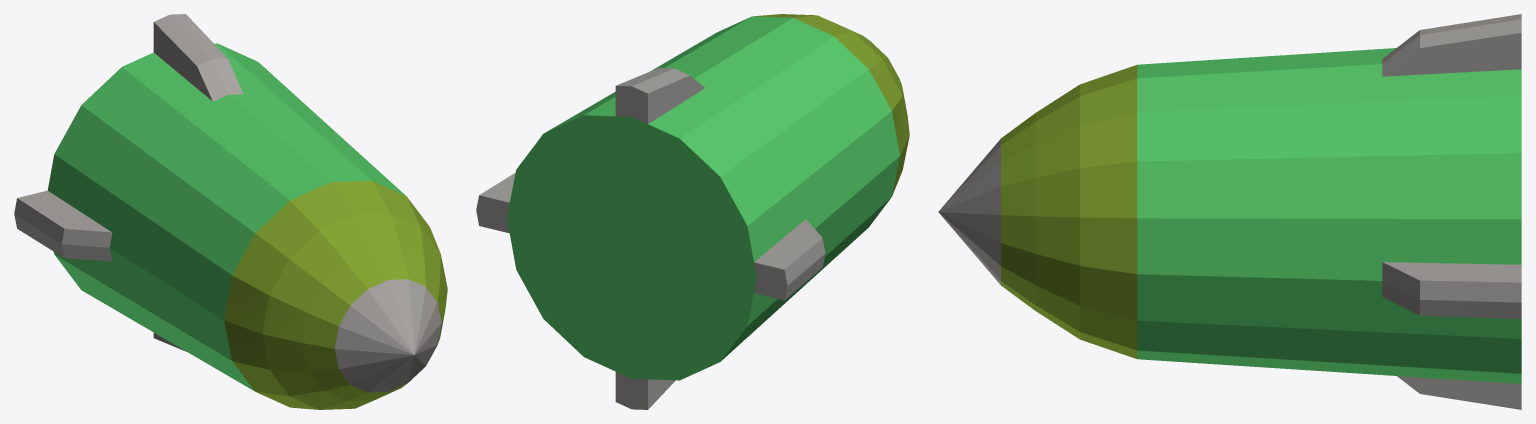
Rendered from missle.fbx.
The picture shows the model from 3 angles, left to right: view 1: azimuth 30°, elevation 25°; view 2: azimuth 150°, elevation 25°; view 3: azimuth 270°, elevation 25°; orthographic projection. The views are drawn at different scales.
Parts seen in each view (by area): view 1: Cylinder; view 2: Cylinder; view 3: Cylinder.
Boxes of the visible parts, <box> form: Cylinder: <box>14,14,447,409</box>; Cylinder: <box>476,14,909,409</box>; Cylinder: <box>938,14,1521,409</box>.
Size of the model in its own units: 49.94 by 67.96 by 49.51.
Materials: 1 (1 with a texture image).
